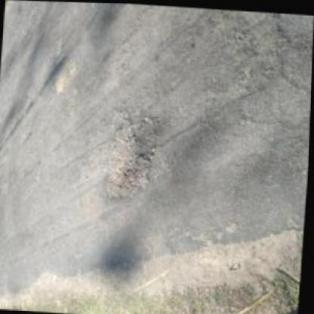Hueco: (102, 106, 158, 203)
